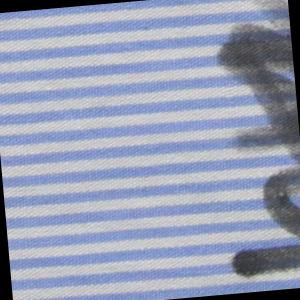Stain: (205, 1, 300, 283)
